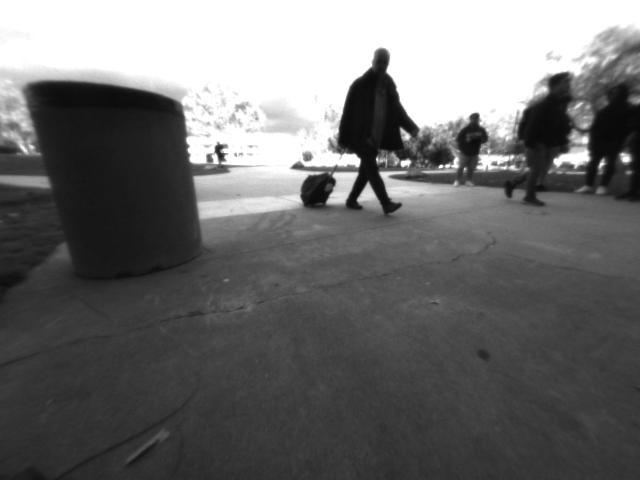trashcan: (13, 68, 214, 281)
